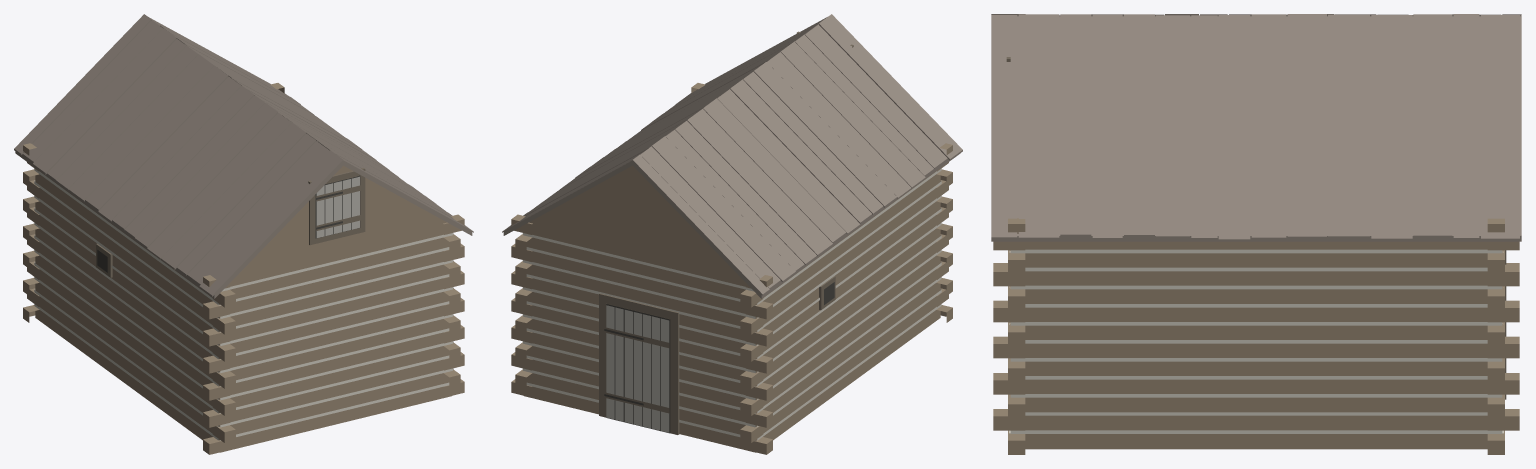
Rendered from recon_1835_blk_washington_dearborn_a1_02__inferred_1835.glb.
3 views of the same model, side by side, from view 1: azimuth 30°, elevation 25°; view 2: azimuth 150°, elevation 25°; view 3: azimuth 270°, elevation 25° (orthographic). The views are drawn at different scales.
Parts seen in each view (by area): view 1: recon_1835_blk_washington_dearborn_a1_02__inferred_1835; view 2: recon_1835_blk_washington_dearborn_a1_02__inferred_1835; view 3: recon_1835_blk_washington_dearborn_a1_02__inferred_1835.
Boxes of the visible parts, x1,y1,x2,y2 form: recon_1835_blk_washington_dearborn_a1_02__inferred_1835: (14,14,473,454); recon_1835_blk_washington_dearborn_a1_02__inferred_1835: (502,14,962,454); recon_1835_blk_washington_dearborn_a1_02__inferred_1835: (991,14,1521,454).
Size of the model in its own units: 5.54 by 5.45 by 7.28.
